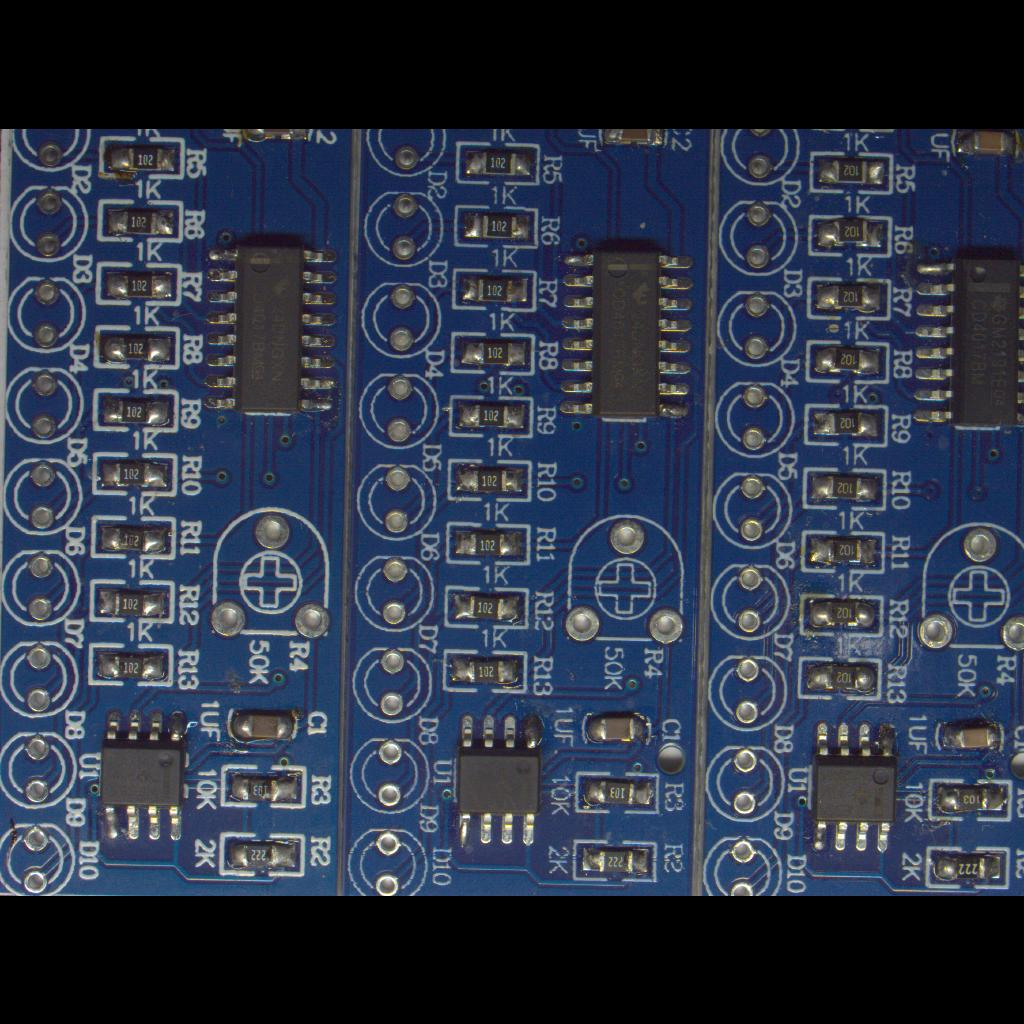OK: (551, 238, 705, 428), (196, 232, 344, 428), (905, 244, 1024, 440), (94, 700, 192, 856), (448, 706, 548, 858), (805, 712, 901, 864), (94, 132, 190, 186), (214, 828, 308, 882), (90, 446, 182, 500), (84, 638, 178, 690), (440, 644, 530, 698), (448, 263, 540, 315), (442, 518, 534, 570), (794, 652, 886, 704), (92, 258, 184, 308), (450, 202, 542, 252), (804, 146, 896, 196), (452, 138, 544, 188), (90, 386, 182, 436), (798, 462, 890, 512), (440, 582, 532, 632), (219, 762, 311, 812), (88, 513, 180, 563), (447, 328, 539, 378), (86, 576, 178, 626), (92, 323, 182, 373), (445, 456, 535, 506), (571, 768, 661, 818), (926, 774, 1016, 824), (922, 843, 1012, 893), (94, 196, 186, 244), (800, 401, 892, 449), (805, 211, 897, 259), (568, 836, 660, 884), (796, 528, 888, 576), (806, 272, 894, 322), (444, 392, 534, 440), (798, 592, 886, 640), (803, 338, 891, 384), (224, 700, 302, 748), (574, 706, 658, 750), (930, 716, 1010, 760)
